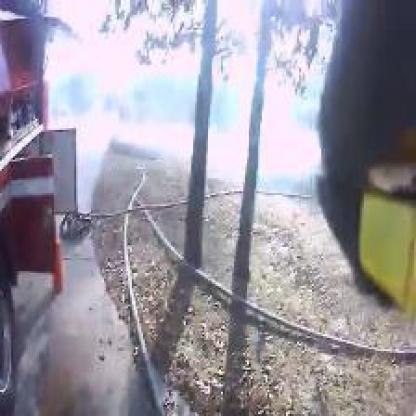other: (345, 189, 412, 282)
